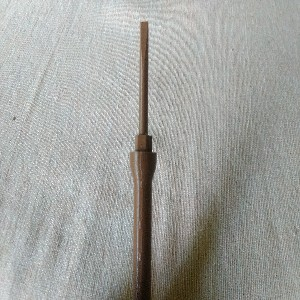obeng: (129, 20, 159, 300)
